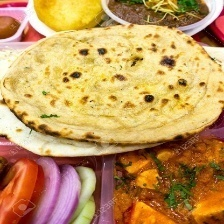sabzi: (112, 142, 224, 224)
